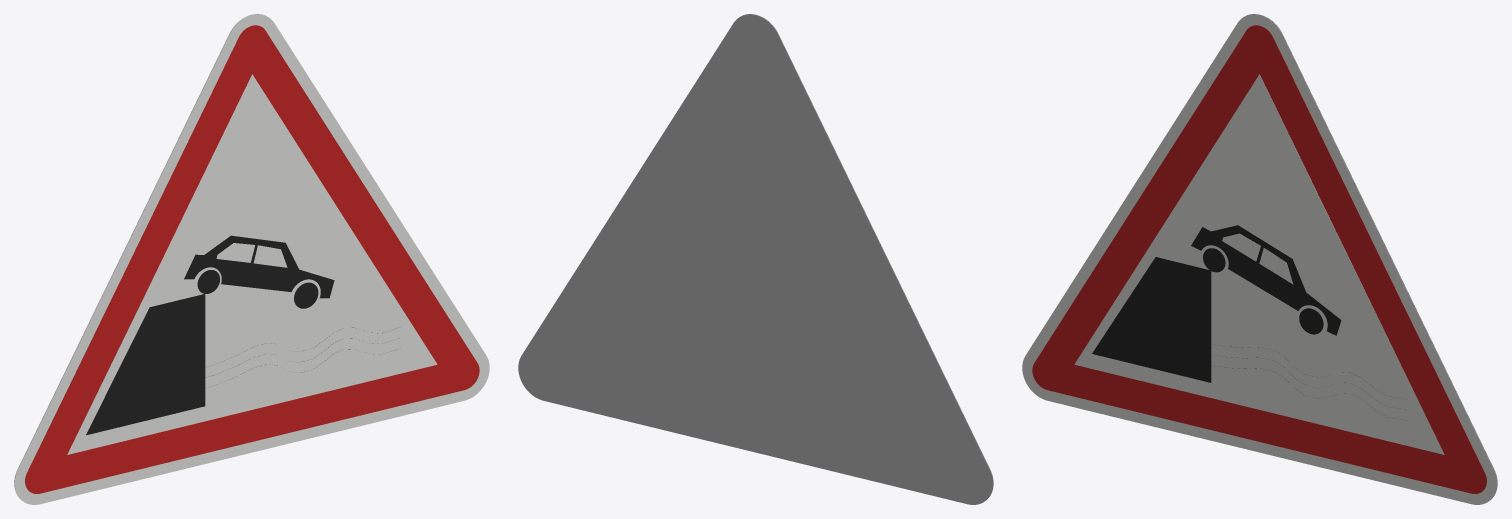
3 renders of one model, left to right at view 1: azimuth 30°, elevation 25°; view 2: azimuth 150°, elevation 25°; view 3: azimuth 330°, elevation 25°, orthographic.
Parts seen in each view (by area): view 1: A20_p02, A20_p01, A20_p00, A20_p07, A20_p03, A20_dos, A20_p09, A20_p08; view 2: A20_dos, A20_p00; view 3: A20_p02, A20_p01, A20_p00, A20_p07, A20_p03, A20_dos, A20_p09, A20_p08.
Boxes of the visible parts, x1,y1,x2,y2 form: A20_p02: [67, 74, 437, 454]; A20_p01: [25, 25, 479, 493]; A20_p00: [14, 14, 489, 504]; A20_p07: [86, 294, 205, 435]; A20_p03: [184, 235, 334, 298]; A20_dos: [14, 14, 265, 500]; A20_p09: [216, 243, 255, 262]; A20_p08: [253, 245, 287, 267]; A20_dos: [518, 14, 993, 504]; A20_p00: [742, 14, 993, 500]; A20_p02: [1074, 74, 1444, 454]; A20_p01: [1032, 25, 1486, 493]; A20_p00: [1022, 14, 1497, 504]; A20_p07: [1092, 257, 1211, 382]; A20_p03: [1191, 225, 1341, 335]; A20_dos: [1246, 14, 1497, 500]; A20_p09: [1222, 233, 1260, 261]; A20_p08: [1259, 248, 1293, 284].
Size of the model in its own units: 1 by 0.8803 by 0.0063.
